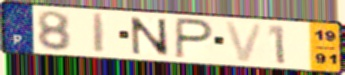1: (266, 24, 288, 66)
8: (35, 9, 73, 52)
I: (90, 12, 107, 56)
N: (129, 15, 172, 58)
P: (173, 16, 216, 61)
V: (222, 20, 266, 64)
